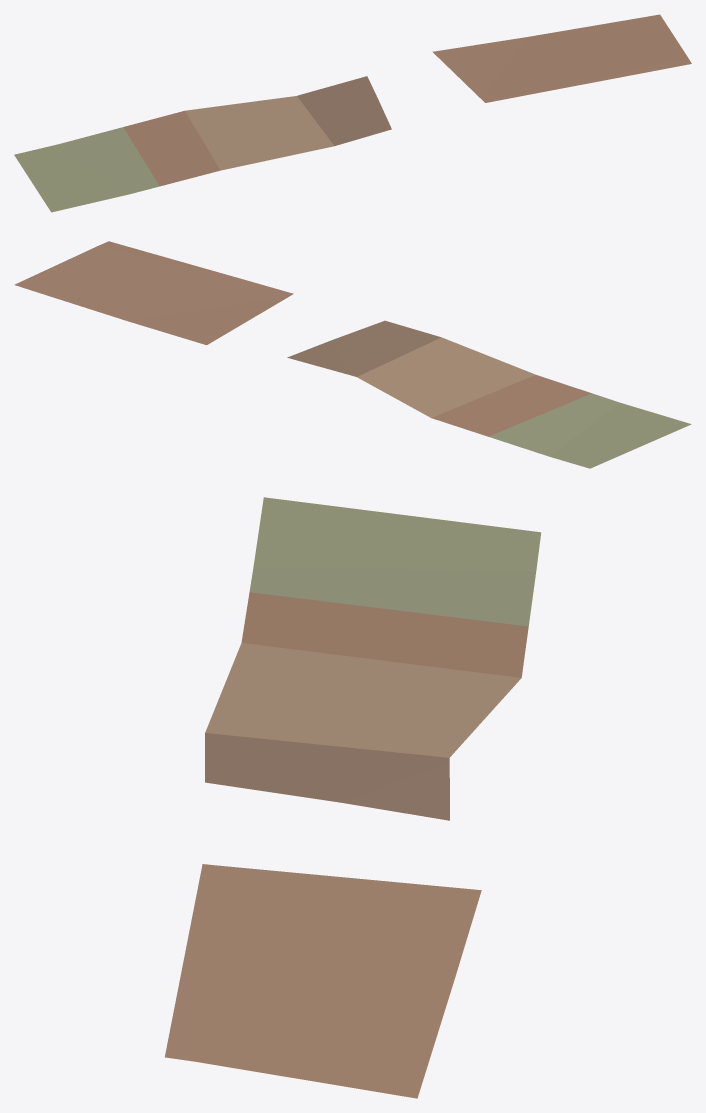
Rendered from farm_33_27_soil.glb.
3 views of the same model, one above another, from view 1: azimuth 30°, elevation 25°; view 2: azimuth 150°, elevation 25°; view 3: azimuth 270°, elevation 25° (orthographic). The views are drawn at different scales.
Parts seen in each view (by area): view 1: geometry_0; view 2: geometry_0; view 3: geometry_0.
Boxes of the visible parts, x1,y1,x2,y2 form: geometry_0: (14,14,691,212); geometry_0: (14,241,691,468); geometry_0: (165,497,541,1098).
Size of the model in its own units: 155 by 4.64 by 39.52.
